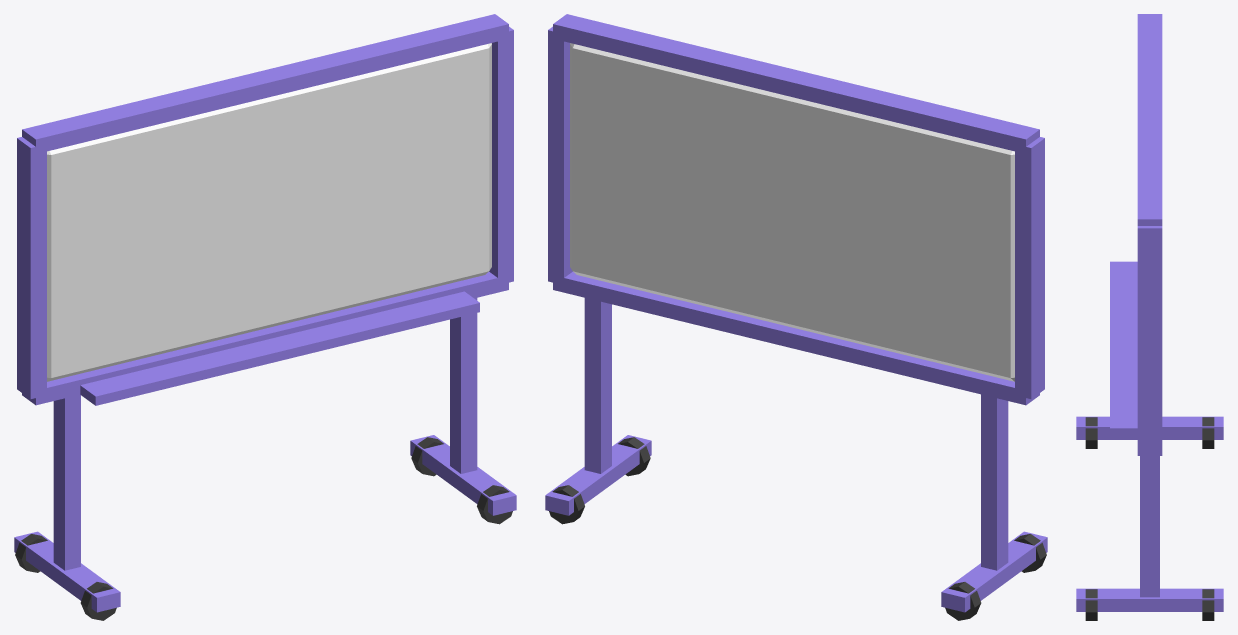
3 renders of one model, left to right at view 1: azimuth 30°, elevation 25°; view 2: azimuth 150°, elevation 25°; view 3: azimuth 270°, elevation 25°, orthographic. The views are drawn at different scales.
Visible parts, largest first — view 1: Writing surface, Frame rail.001, Marker ledge, Frame upright, Frame rail, Frame upright.001, Stand, Stand.001, Caster beam, Caster beam.001; view 2: Writing surface, Frame rail.001, Frame rail, Frame upright, Frame upright.001, Stand.001, Stand, Caster beam, Caster beam.001; view 3: Frame upright.001, Frame rail.001, Marker ledge, Caster beam.001, Stand.001, Caster beam, Wheel, Wheel.001, Wheel.002, Wheel.003.
Part boxes in pixels (x1,y1,x2,y2): Writing surface: [47, 43, 491, 381]; Frame rail.001: [22, 14, 508, 153]; Marker ledge: [80, 291, 479, 405]; Frame upright: [17, 137, 46, 399]; Frame rail: [22, 272, 508, 405]; Frame upright.001: [489, 26, 513, 284]; Stand: [53, 394, 80, 570]; Stand.001: [450, 298, 477, 473]; Caster beam: [14, 531, 120, 612]; Caster beam.001: [410, 435, 516, 515]; Writing surface: [570, 43, 1014, 381]; Frame rail.001: [553, 14, 1039, 153]; Frame rail: [553, 272, 1039, 405]; Frame upright: [1015, 137, 1044, 399]; Frame upright.001: [548, 26, 572, 284]; Stand.001: [584, 298, 611, 473]; Stand: [981, 394, 1008, 570]; Caster beam: [941, 531, 1047, 612]; Caster beam.001: [545, 435, 651, 515]; Frame upright.001: [1137, 226, 1162, 451]; Frame rail.001: [1137, 14, 1162, 225]; Marker ledge: [1110, 261, 1137, 436]; Caster beam.001: [1076, 588, 1223, 611]; Stand.001: [1140, 456, 1159, 597]; Caster beam: [1076, 416, 1223, 439]; Wheel: [1085, 417, 1097, 448]; Wheel.001: [1202, 417, 1214, 448]; Wheel.002: [1085, 589, 1097, 620]; Wheel.003: [1202, 589, 1214, 620].
Size of the model in its own units: 1.62 by 1.5 by 0.48.
1 material, 1 textured.
